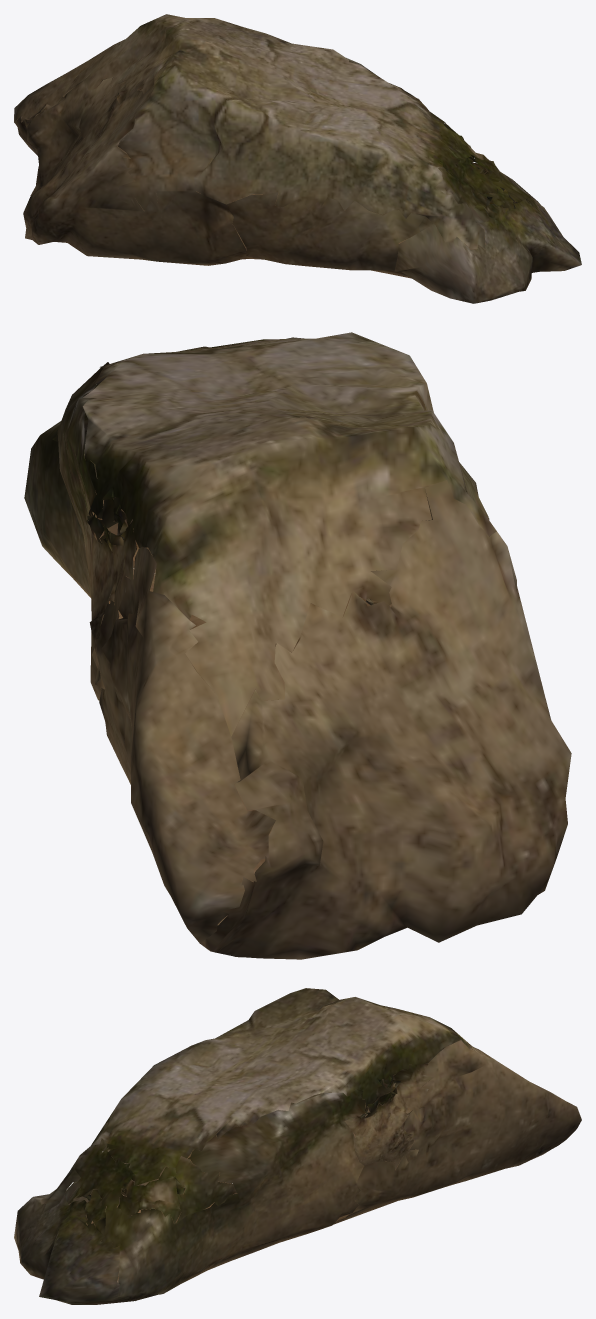
Rendered from rock_moss_02_2k.glb.
3 views of the same model, one above another, from view 1: azimuth 30°, elevation 25°; view 2: azimuth 150°, elevation 25°; view 3: azimuth 270°, elevation 25° (orthographic). The views are drawn at different scales.
Visible parts, largest first — view 1: rock_moss_set_01_rock02; view 2: rock_moss_set_01_rock02; view 3: rock_moss_set_01_rock02.
Part boxes in pixels (bbox=[...]): rock_moss_set_01_rock02: bbox=[14, 14, 581, 303]; rock_moss_set_01_rock02: bbox=[24, 332, 571, 959]; rock_moss_set_01_rock02: bbox=[14, 988, 581, 1304].
Bounding box in the file's own units: 2.65 × 1.26 × 3.26.
1 material, 1 textured.
